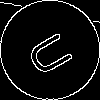U: (25, 25, 83, 80)
